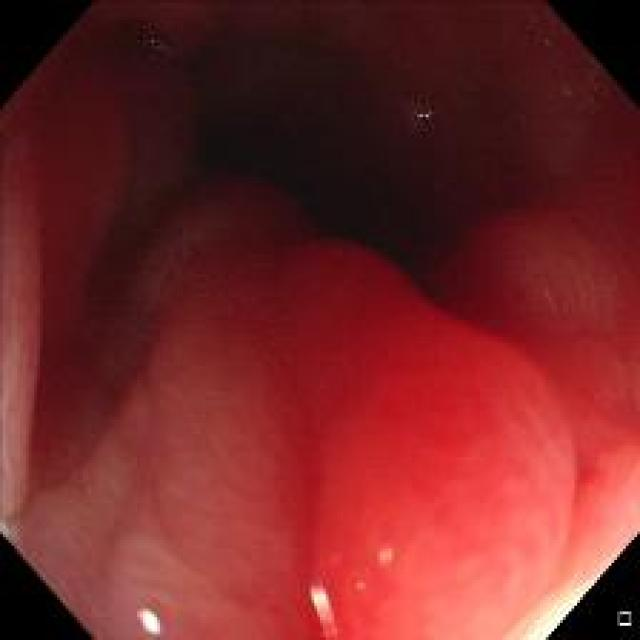color misalignment: (132, 29, 178, 66), (406, 105, 432, 128)
contrast: (18, 18, 605, 358)
saturation: (504, 555, 576, 630)
specularity: (301, 576, 340, 622), (130, 601, 170, 629)
